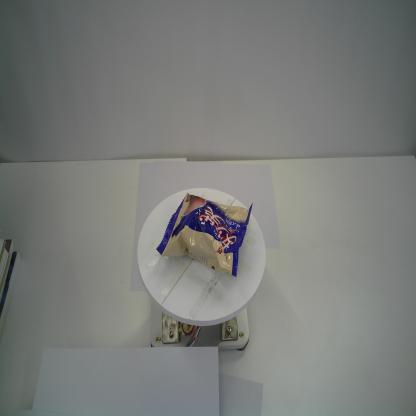Dessert: (155, 191, 253, 280)
